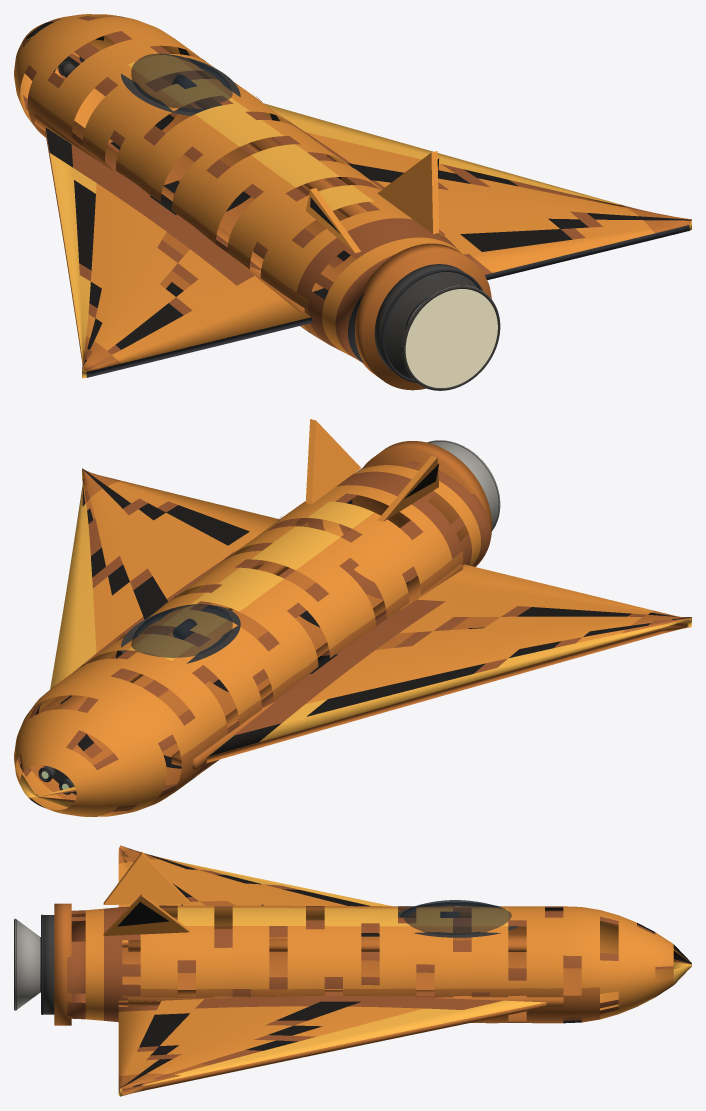
The model's file is Ship_TigerWing_7.glb.
3 renders of one model, top to bottom at view 1: azimuth 30°, elevation 25°; view 2: azimuth 150°, elevation 25°; view 3: azimuth 270°, elevation 25°, orthographic. The views are drawn at different scales.
Visible parts, largest first — view 1: Fuselage_OrganicEllipsoidTaperedBody_BakedPaint, Wing_Left_LongDeltaAerofoil_BakedPaint, Wing_Right_LongDeltaAerofoil_BakedPaint, EngineEmitter, AftCollar_IntegratedSingleEngineBand, CanopyGlass_LowInsetDome, EngineBlock_AftDarkSingleEngineHousing, TailFin_Right_CantedStabilizer, WingRoot_Left_EmbeddedShoulder, CanopyFrame_DorsalOvalRim, EngineLip_Center_DarkWideRim, WingRoot_Right_EmbeddedShoulder (+2 smaller); view 2: Fuselage_OrganicEllipsoidTaperedBody_BakedPaint, Wing_Left_LongDeltaAerofoil_BakedPaint, Wing_Right_LongDeltaAerofoil_BakedPaint, CanopyGlass_LowInsetDome, AftCollar_IntegratedSingleEngineBand, TailFin_Right_CantedStabilizer, WingRoot_Left_EmbeddedShoulder, EngineBell_Center_BroadBurnishedNozzle, CanopyFrame_DorsalOvalRim, TailFin_Left_CantedStabilizer, WingRoot_Right_EmbeddedShoulder; view 3: Fuselage_OrganicEllipsoidTaperedBody_BakedPaint, Wing_Right_LongDeltaAerofoil_BakedPaint, Wing_Left_LongDeltaAerofoil_BakedPaint, CanopyGlass_LowInsetDome, TailFin_Left_CantedStabilizer, AftCollar_IntegratedSingleEngineBand, EngineBell_Center_BroadBurnishedNozzle, TailFin_Right_CantedStabilizer, WingRoot_Right_EmbeddedShoulder, EngineBlock_AftDarkSingleEngineHousing, WingRoot_Left_EmbeddedShoulder, CanopyFrame_DorsalOvalRim (+1 smaller).
Boxes of the visible parts, <box> form: Fuselage_OrganicEllipsoidTaperedBody_BakedPaint: <box>14,14,489,363</box>; Wing_Left_LongDeltaAerofoil_BakedPaint: <box>45,127,312,378</box>; Wing_Right_LongDeltaAerofoil_BakedPaint: <box>264,103,691,280</box>; EngineEmitter: <box>405,289,497,387</box>; AftCollar_IntegratedSingleEngineBand: <box>355,243,491,390</box>; CanopyGlass_LowInsetDome: <box>131,53,232,112</box>; EngineBlock_AftDarkSingleEngineHousing: <box>374,264,477,378</box>; TailFin_Right_CantedStabilizer: <box>377,151,438,234</box>; WingRoot_Left_EmbeddedShoulder: <box>34,113,304,313</box>; CanopyFrame_DorsalOvalRim: <box>121,57,240,115</box>; EngineLip_Center_DarkWideRim: <box>402,285,500,390</box>; WingRoot_Right_EmbeddedShoulder: <box>172,82,367,218</box>; Fuselage_OrganicEllipsoidTaperedBody_BakedPaint: <box>14,461,490,816</box>; Wing_Left_LongDeltaAerofoil_BakedPaint: <box>206,564,691,763</box>; Wing_Right_LongDeltaAerofoil_BakedPaint: <box>50,468,317,689</box>; CanopyGlass_LowInsetDome: <box>131,604,232,657</box>; AftCollar_IntegratedSingleEngineBand: <box>352,441,491,566</box>; TailFin_Right_CantedStabilizer: <box>305,419,360,504</box>; WingRoot_Left_EmbeddedShoulder: <box>171,564,462,769</box>; EngineBell_Center_BroadBurnishedNozzle: <box>427,440,500,530</box>; CanopyFrame_DorsalOvalRim: <box>121,605,240,663</box>; TailFin_Left_CantedStabilizer: <box>377,456,438,521</box>; WingRoot_Right_EmbeddedShoulder: <box>54,526,305,710</box>; Fuselage_OrganicEllipsoidTaperedBody_BakedPaint: <box>67,905,691,1023</box>; Wing_Right_LongDeltaAerofoil_BakedPaint: <box>118,992,548,1096</box>; Wing_Left_LongDeltaAerofoil_BakedPaint: <box>118,845,471,947</box>; CanopyGlass_LowInsetDome: <box>399,900,511,934</box>; TailFin_Left_CantedStabilizer: <box>103,852,189,904</box>; AftCollar_IntegratedSingleEngineBand: <box>54,903,71,1025</box>; EngineBell_Center_BroadBurnishedNozzle: <box>15,918,40,1010</box>; TailFin_Right_CantedStabilizer: <box>103,894,189,935</box>; WingRoot_Right_EmbeddedShoulder: <box>128,990,563,1006</box>; EngineBlock_AftDarkSingleEngineHousing: <box>43,915,54,1014</box>; WingRoot_Left_EmbeddedShoulder: <box>128,935,526,951</box>; CanopyFrame_DorsalOvalRim: <box>398,903,518,937</box>.
Bounding box in the file's own units: 5.95 × 1.7 × 7.01.
